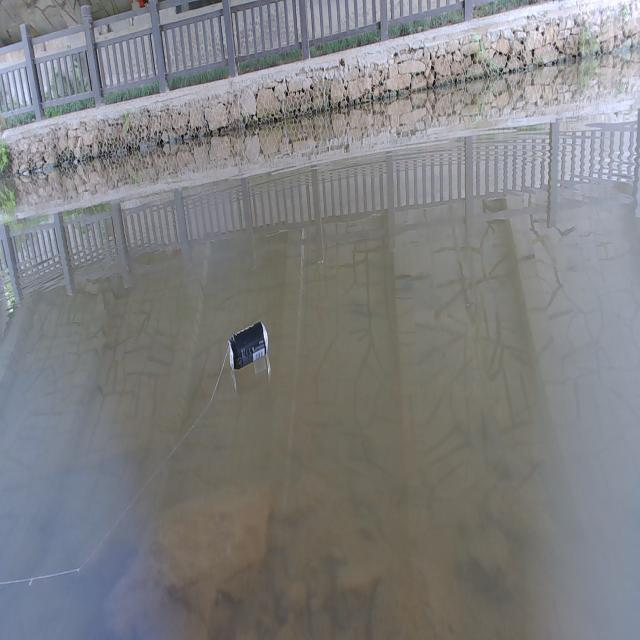garbage: (227, 319, 269, 371)
